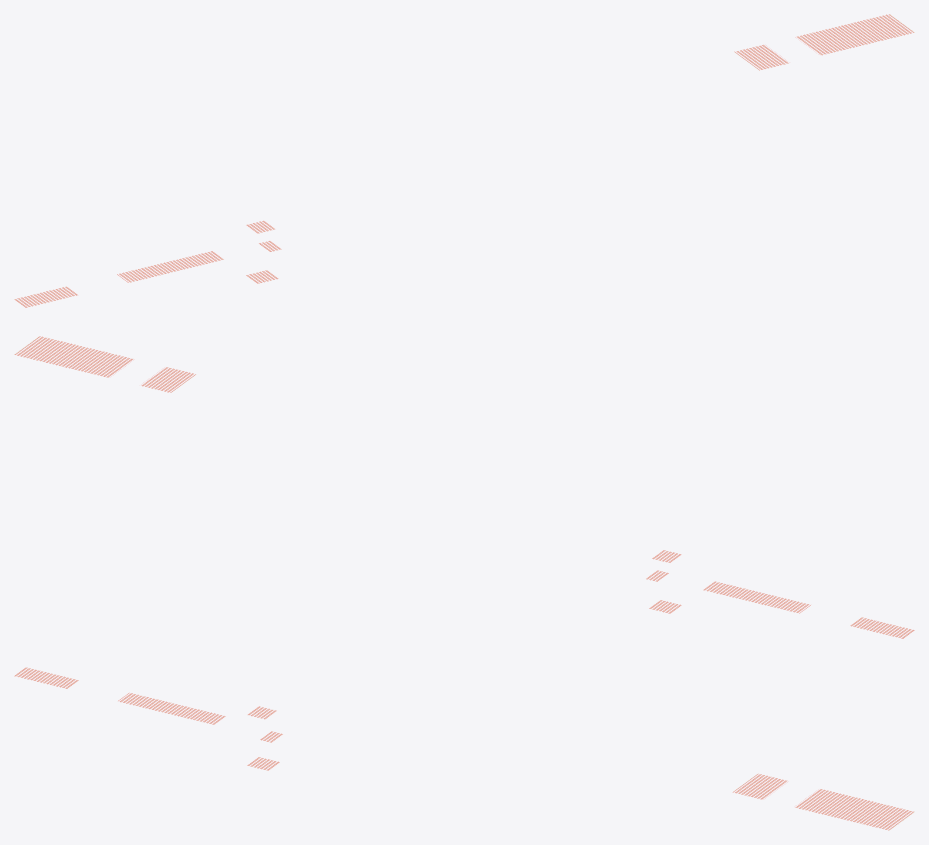
The model's file is DECO_STAGE7.glb.
3 views of the same model, one above another, from view 1: azimuth 30°, elevation 25°; view 2: azimuth 150°, elevation 25°; view 3: azimuth 330°, elevation 25° (orthographic).
Visible parts, largest first — view 1: DECO_STAGE7; view 2: DECO_STAGE7; view 3: DECO_STAGE7.
Boxes of the visible parts, x1,y1,x2,y2 form: DECO_STAGE7: [14, 14, 914, 307]; DECO_STAGE7: [14, 336, 914, 638]; DECO_STAGE7: [14, 667, 914, 830].
Size of what is drawn, in the model's own units: 97.14 by 10.69 by 4.88.
Materials: 1 (1 with a texture image).
